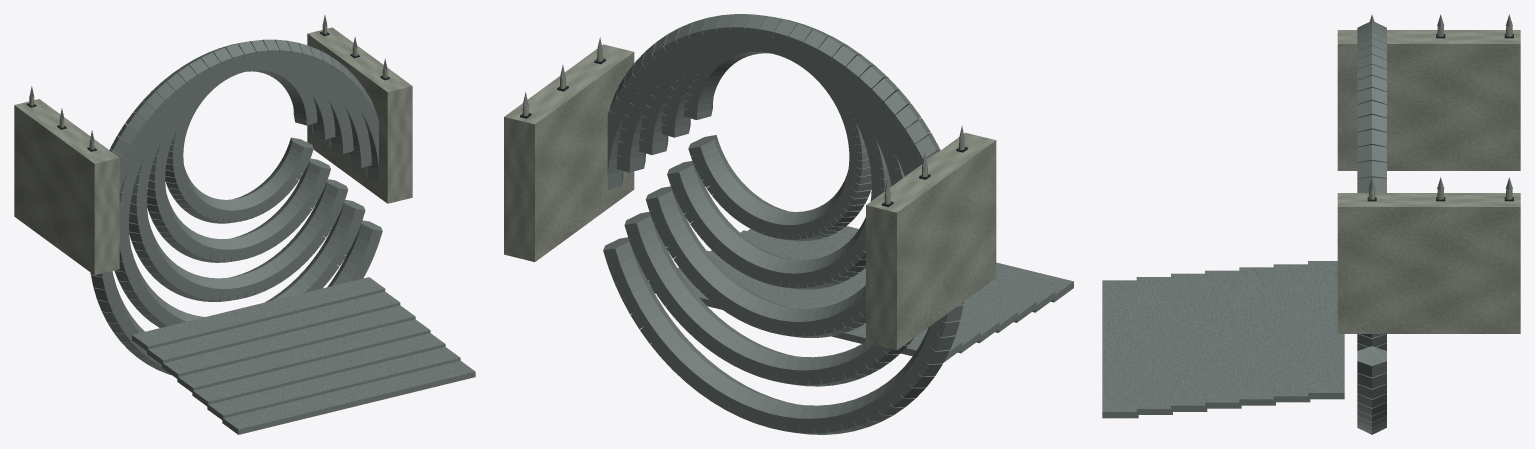
File: world_flup_mouth_01.fbx
3 renders of one model, left to right at view 1: azimuth 30°, elevation 25°; view 2: azimuth 150°, elevation 25°; view 3: azimuth 270°, elevation 25°, orthographic. The views are drawn at different scales.
Parts seen in each view (by area): view 1: world_flup_mouth_01_LOD0; view 2: world_flup_mouth_01_LOD0; view 3: world_flup_mouth_01_LOD0.
Boxes of the visible parts, left/top/right/bottom form: world_flup_mouth_01_LOD0: left=14, top=15, right=475, bottom=434; world_flup_mouth_01_LOD0: left=504, top=14, right=1073, bottom=434; world_flup_mouth_01_LOD0: left=1102, top=14, right=1520, bottom=434.
Size of what is drawn, in the model's own units: 1 by 1 by 1.
